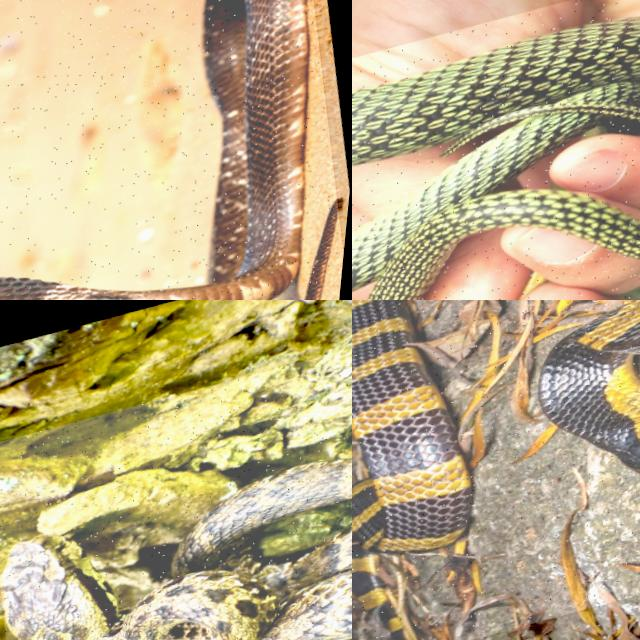Bungarus fasciatus: (352, 300, 471, 639)
Chrysopelea ornata: (352, 16, 639, 299)
Ophiophagus hannah: (0, 0, 312, 299)
Ovophis monticola: (0, 458, 351, 639)
snake: (0, 0, 312, 299), (352, 16, 639, 299), (0, 458, 351, 639), (352, 300, 471, 639)
